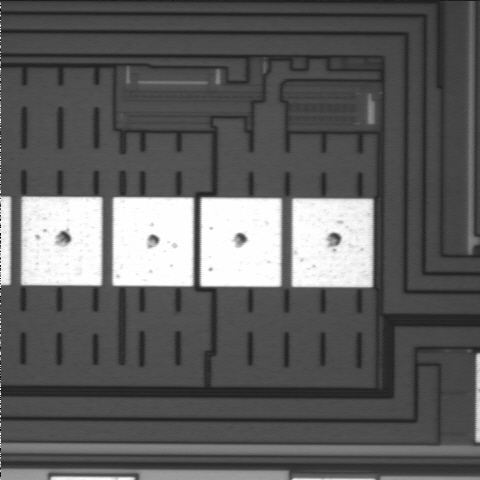pad: (112, 197, 194, 286), (200, 198, 282, 287), (21, 197, 102, 286), (292, 198, 373, 287)
